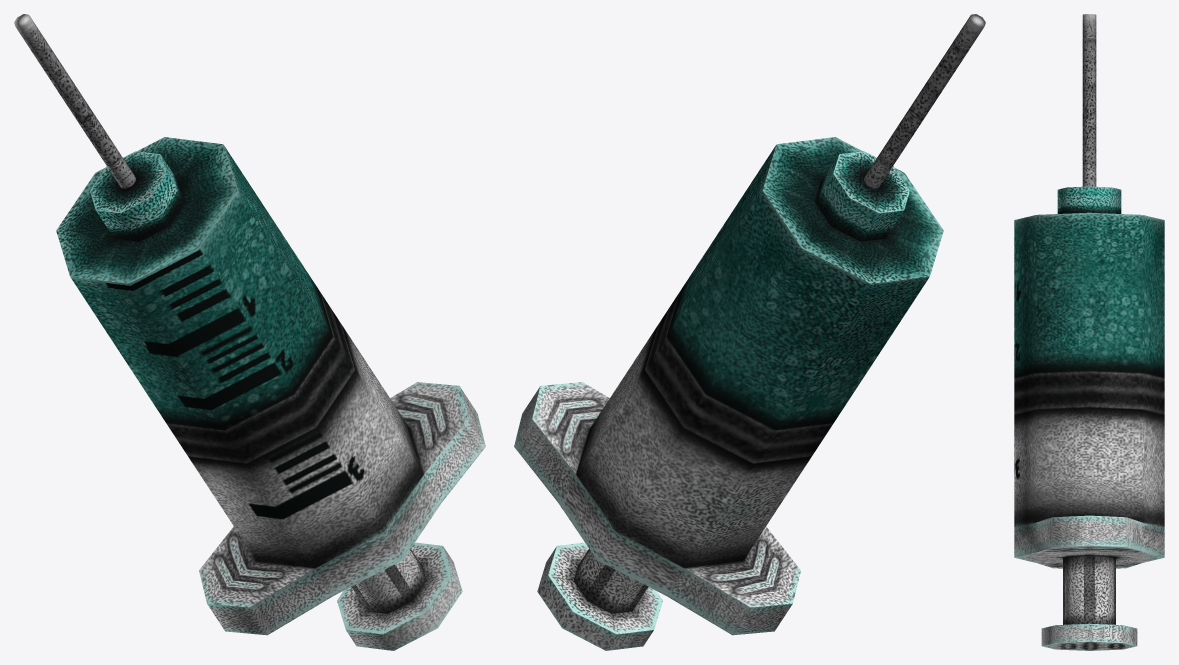
File: BACK_SYRINGE.fbx
3 views of the same model, side by side, from view 1: azimuth 30°, elevation 25°; view 2: azimuth 150°, elevation 25°; view 3: azimuth 270°, elevation 25° (orthographic). The views are drawn at different scales.
Parts seen in each view (by area): view 1: Syringe; view 2: Syringe; view 3: Syringe.
Boxes of the visible parts, <box> form: Syringe: <box>14,14,485,650</box>; Syringe: <box>514,14,985,650</box>; Syringe: <box>1014,14,1164,650</box>.
Bounding box in the file's own units: 0.0519 × 0.0763 × 0.02.
